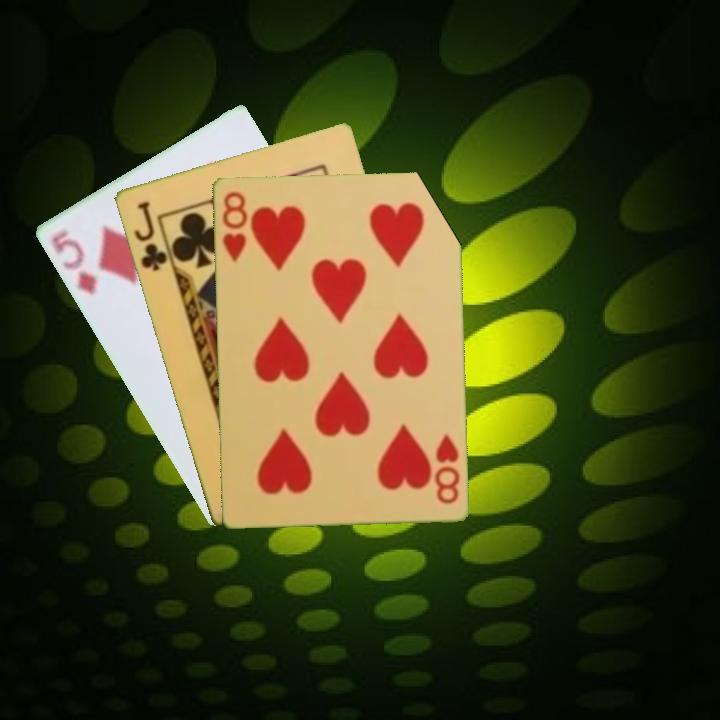5d: (47, 226, 99, 298)
8h: (218, 187, 250, 265), (431, 430, 462, 507)
Jc: (130, 198, 170, 274)
